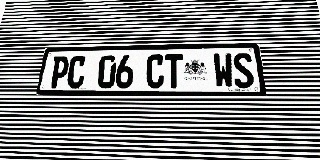0: (97, 55, 117, 88)
6: (115, 55, 134, 88)
C: (66, 56, 87, 88), (146, 54, 164, 88)
P: (49, 56, 70, 88)
S: (232, 53, 255, 88)
T: (165, 54, 183, 88)
W: (213, 53, 234, 88)
